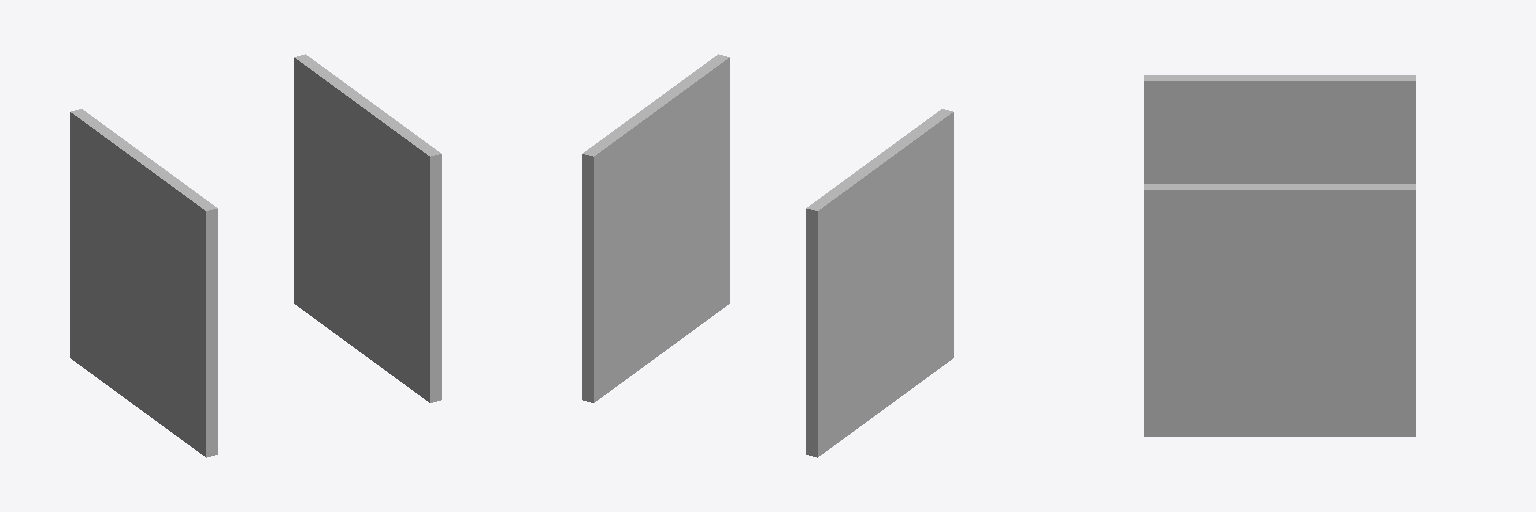
Rendered from Wall_Parallel.obj.
3 views of the same model, side by side, from view 1: azimuth 30°, elevation 25°; view 2: azimuth 150°, elevation 25°; view 3: azimuth 270°, elevation 25° (orthographic).
Parts seen in each view (by area): view 1: shape; view 2: shape; view 3: shape.
Boxes of the visible parts, x1,y1,x2,y2 form: shape: [70, 54, 441, 457]; shape: [582, 54, 953, 457]; shape: [1144, 75, 1415, 436].
Size of the model in its own units: 2 by 2 by 2.